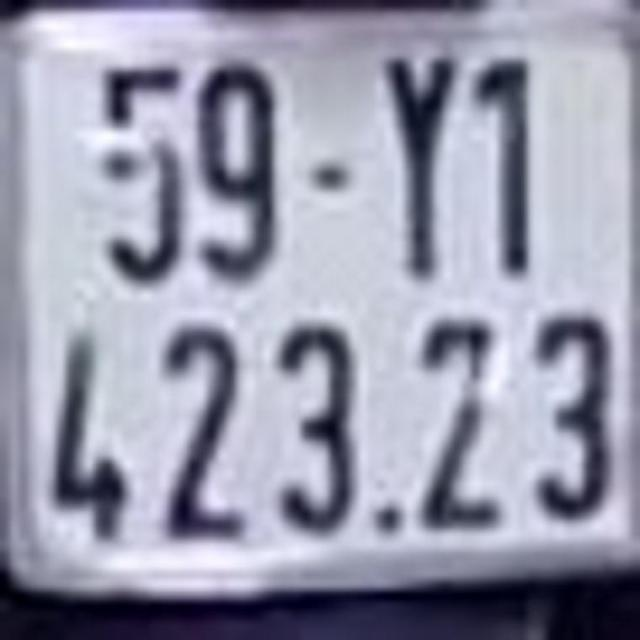1: (466, 48, 546, 275)
2: (158, 304, 245, 550), (414, 304, 503, 534)
3: (270, 304, 356, 537), (530, 298, 610, 525)
4: (46, 314, 132, 549)
5: (101, 57, 183, 282)
9: (192, 58, 277, 280)
Y: (381, 42, 462, 272)
